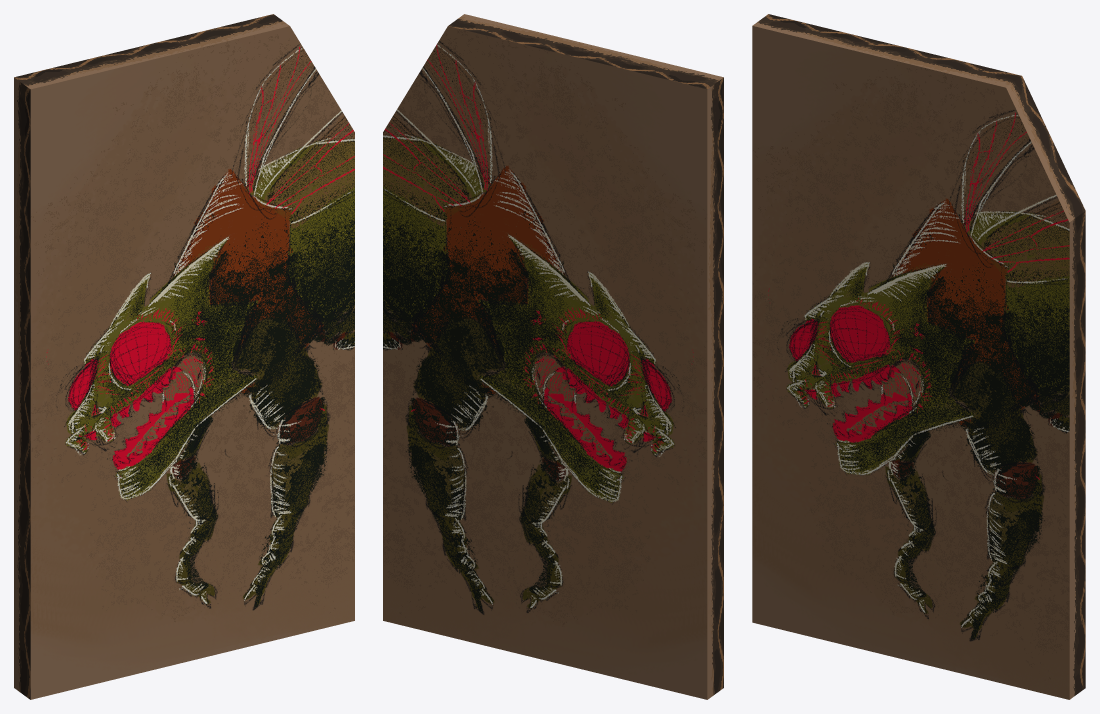
File: Directionsign_Box.fbx
3 views of the same model, side by side, from view 1: azimuth 30°, elevation 25°; view 2: azimuth 150°, elevation 25°; view 3: azimuth 330°, elevation 25° (orthographic). The views are drawn at different scales.
Parts seen in each view (by area): view 1: Direction_Sign; view 2: Direction_Sign; view 3: Direction_Sign.
Part boxes in pixels (bbox=[...]): Direction_Sign: bbox=[14, 14, 354, 699]; Direction_Sign: bbox=[383, 14, 723, 699]; Direction_Sign: bbox=[752, 14, 1085, 699].
Bounding box in the file's own units: 1.77 × 3.18 × 0.1557.
